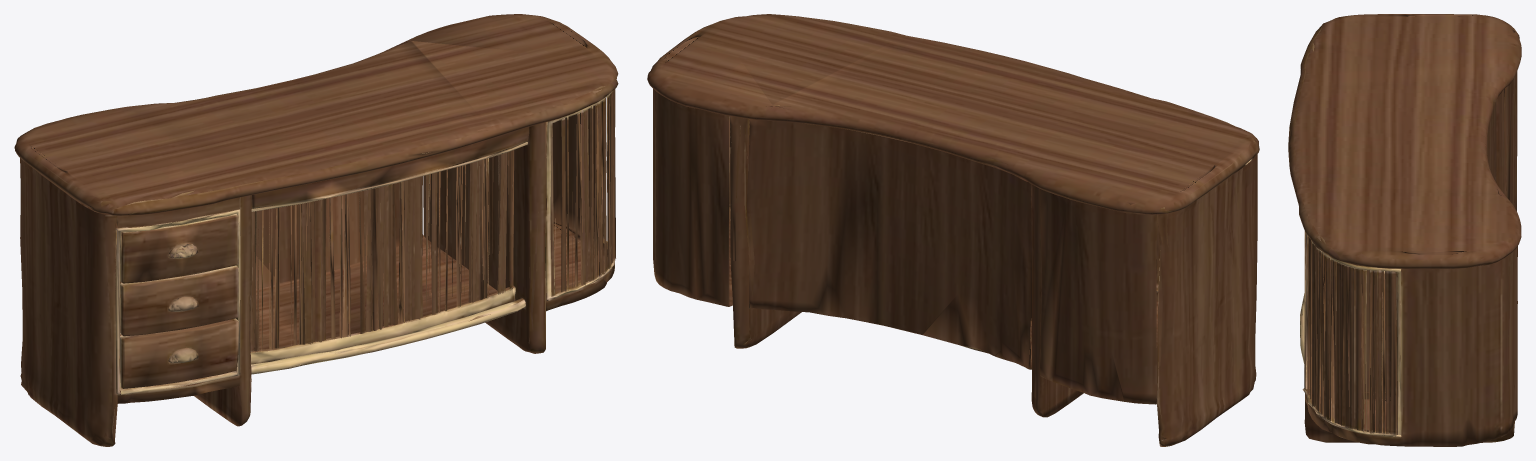
Rendered from desk_executive.glb.
3 renders of one model, left to right at view 1: azimuth 30°, elevation 25°; view 2: azimuth 150°, elevation 25°; view 3: azimuth 270°, elevation 25°, orthographic. The views are drawn at different scales.
Parts seen in each view (by area): view 1: prop; view 2: prop; view 3: prop.
Boxes of the visible parts, x1,y1,x2,y2 form: prop: (14,14,618,446); prop: (647,14,1259,446); prop: (1288,14,1521,446).
Size of the model in its own units: 1.8 by 0.7968 by 0.7181.
Materials: 1 (1 with a texture image).
